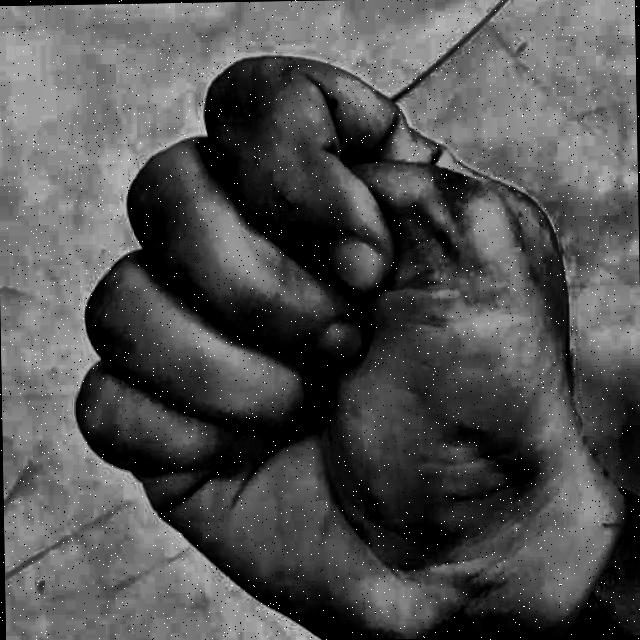To: (65, 26, 612, 640)
